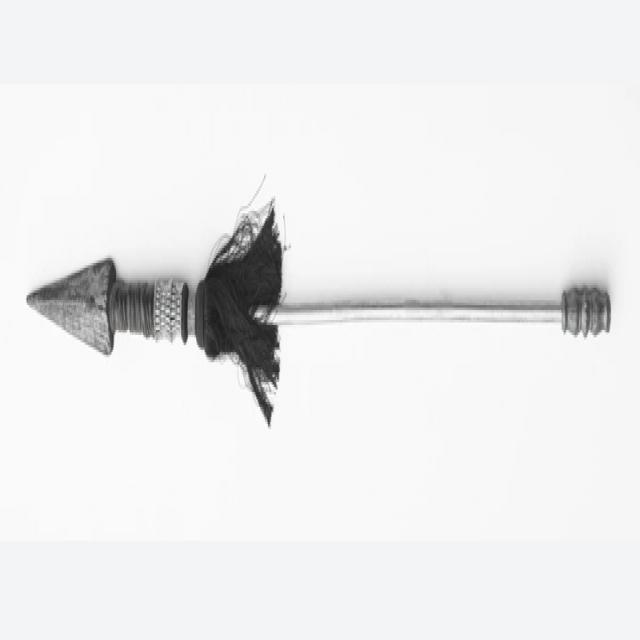spear: (18, 224, 626, 420)
